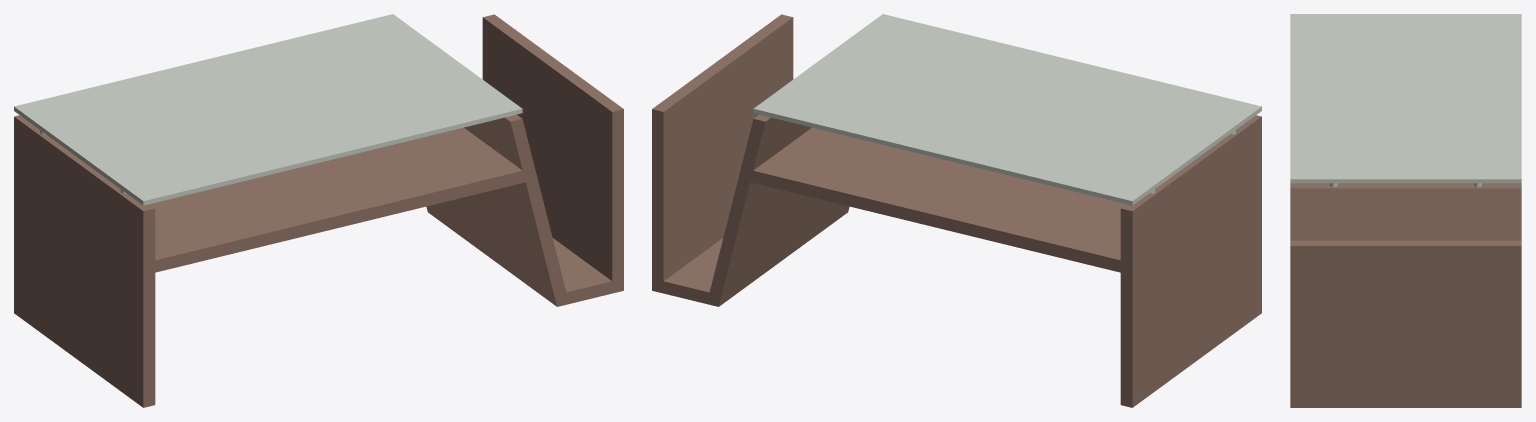
File: 406_ローテーブル.glb
3 views of the same model, side by side, from view 1: azimuth 30°, elevation 25°; view 2: azimuth 150°, elevation 25°; view 3: azimuth 270°, elevation 25° (orthographic). The views are drawn at different scales.
Parts seen in each view (by area): view 1: 406_ローテーブル; view 2: 406_ローテーブル; view 3: 406_ローテーブル.
Part boxes in pixels (x1=…): 406_ローテーブル: x1=14, y1=14, x2=623, y2=407; 406_ローテーブル: x1=652, y1=14, x2=1261, y2=407; 406_ローテーブル: x1=1290, y1=14, x2=1521, y2=407.
Bounding box in the file's own units: 0.9 × 0.37 × 0.42.
